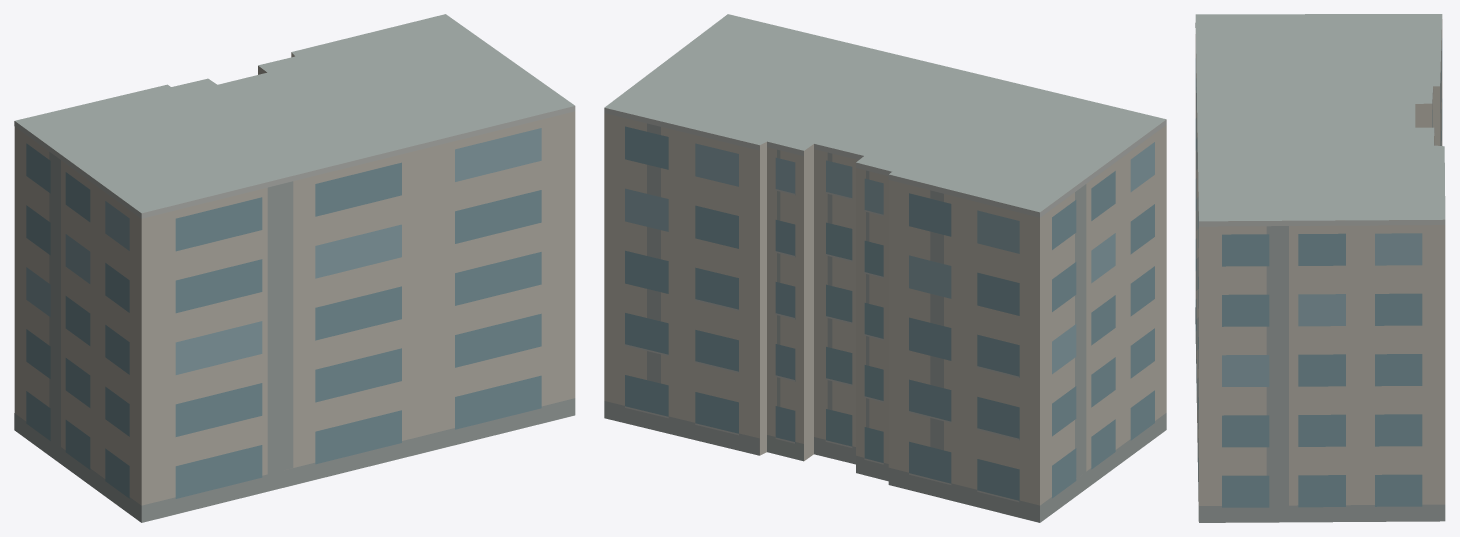
File: survey-upis-32820395.glb
3 views of the same model, side by side, from view 1: azimuth 30°, elevation 25°; view 2: azimuth 150°, elevation 25°; view 3: azimuth 270°, elevation 25° (orthographic). The views are drawn at different scales.
Visible parts, largest first — view 1: survey-upis-32820395.tmp; view 2: survey-upis-32820395.tmp; view 3: survey-upis-32820395.tmp.
Part boxes in pixels (left/top/right/bottom): survey-upis-32820395.tmp: left=14, top=14, right=575, bottom=522; survey-upis-32820395.tmp: left=604, top=14, right=1166, bottom=522; survey-upis-32820395.tmp: left=1195, top=14, right=1445, bottom=522.
Size of the model in its own units: 20.5 by 13.9 by 10.45.
